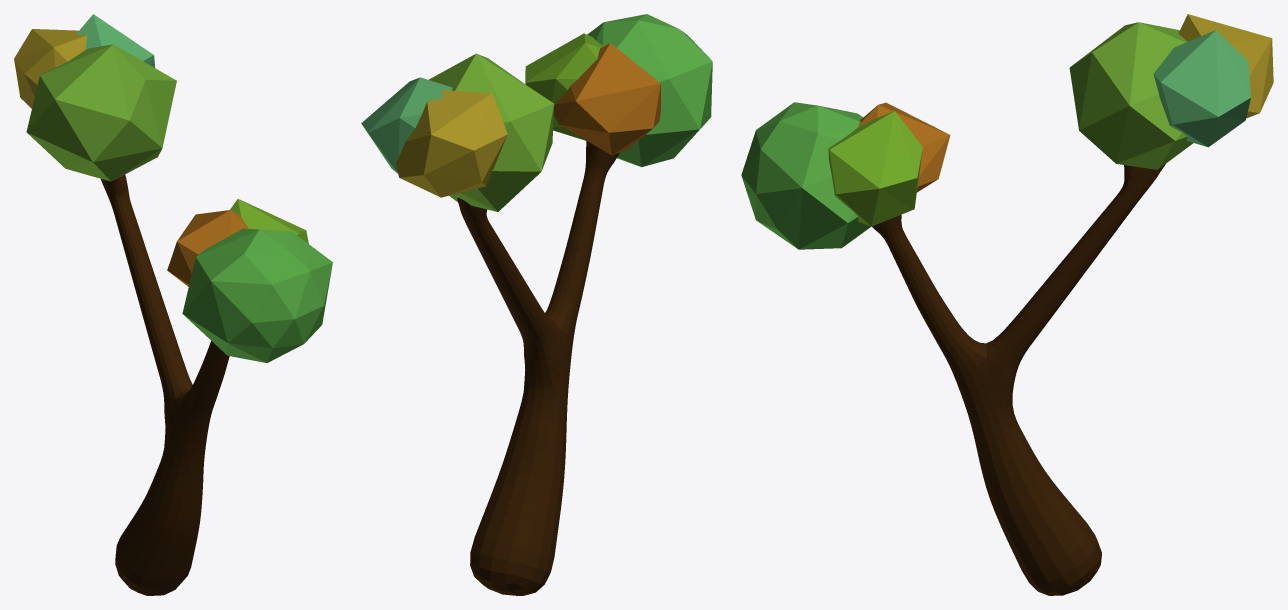
File: low_poly_tree_2.obj
3 views of the same model, side by side, from view 1: azimuth 30°, elevation 25°; view 2: azimuth 150°, elevation 25°; view 3: azimuth 270°, elevation 25° (orthographic). The views are drawn at different scales.
Visible parts, largest first — view 1: Cube.001, Icosphere, Icosphere.005, Icosphere.004, Icosphere.001, Icosphere.003, Icosphere.002; view 2: Cube.001, Icosphere, Icosphere.004, Icosphere.005, Icosphere.001, Icosphere.003, Icosphere.002; view 3: Cube.001, Icosphere, Icosphere.005, Icosphere.003, Icosphere.002, Icosphere.004, Icosphere.001.
Part boxes in pixels (x1,y1,x2,y2): Cube.001: (100,174,229,595); Icosphere: (182,228,332,362); Icosphere.005: (26,44,176,181); Icosphere.004: (14,29,87,108); Icosphere.001: (167,210,248,286); Icosphere.003: (76,14,155,67); Icosphere.002: (230,199,308,243); Cube.001: (457,141,619,595); Icosphere: (587,14,712,167); Icosphere.004: (395,90,507,197); Icosphere.005: (428,53,554,211); Icosphere.001: (553,43,660,155); Icosphere.003: (361,77,452,173); Icosphere.002: (525,33,603,140); Cube.001: (872,164,1165,595); Icosphere: (741,102,870,249); Icosphere.005: (1069,22,1193,169); Icosphere.003: (1153,30,1250,147); Icosphere.002: (828,111,922,226); Icosphere.004: (1178,14,1273,118); Icosphere.001: (858,102,950,192).
Bounding box in the file's own units: 2.54 × 8.6 × 7.3.
